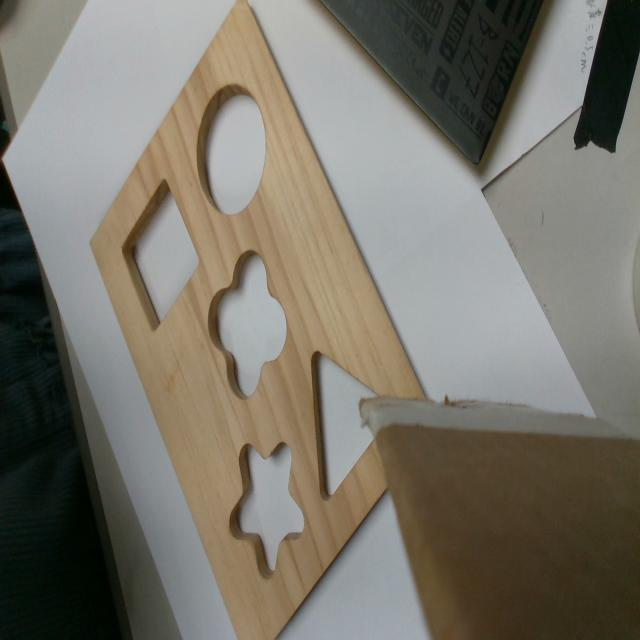circle: (196, 86, 268, 213)
flower: (208, 251, 287, 399)
square: (119, 177, 201, 329)
star: (229, 445, 309, 575)
triangle: (309, 348, 382, 502)
